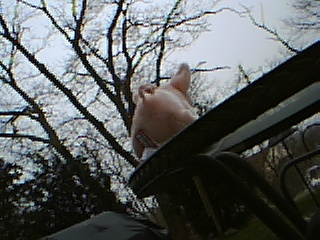piggy: (129, 61, 199, 158)
